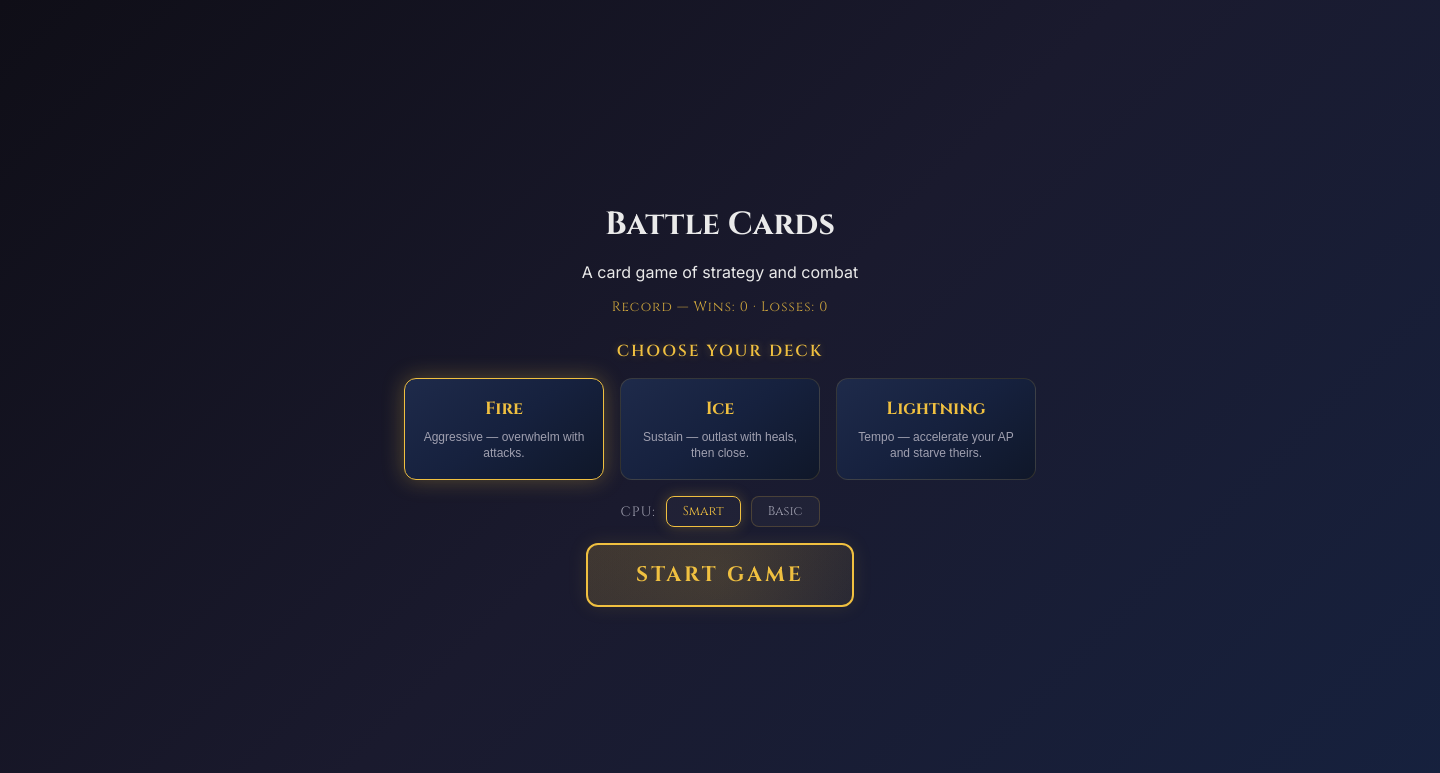
Scenario: App integration — full game flow (render path) › commits CPU cards face-down at the start of the turn
Click the button "Start Game".
click(720, 575)  # box x1=586 y1=543 x2=854 y2=607
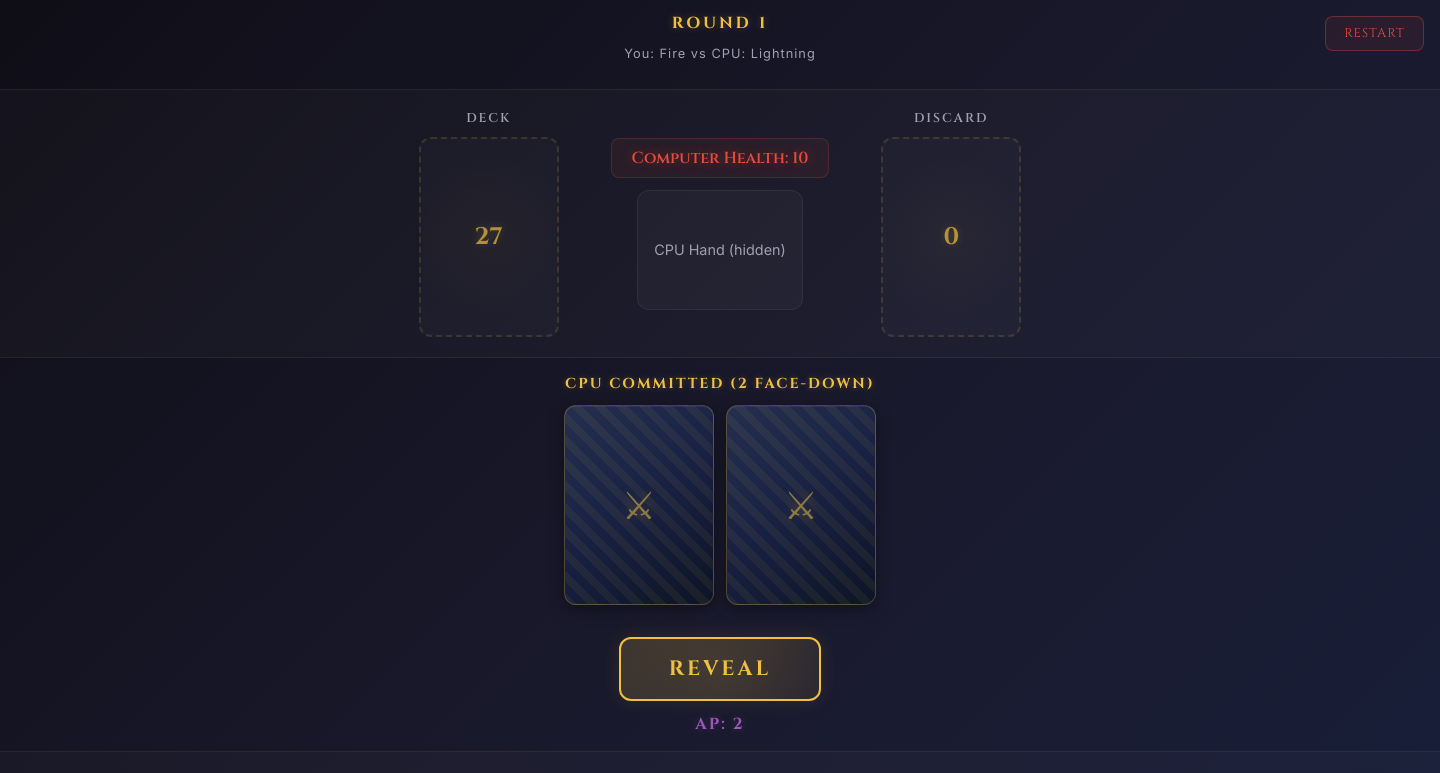
Now the button "Reveal" is shown, box x1=619 y1=637 x2=821 y2=701
Now the number of pictures named "cpu committed card" is 2, box x1=564 y1=405 x2=714 y2=605; x1=726 y1=405 x2=876 y2=605
